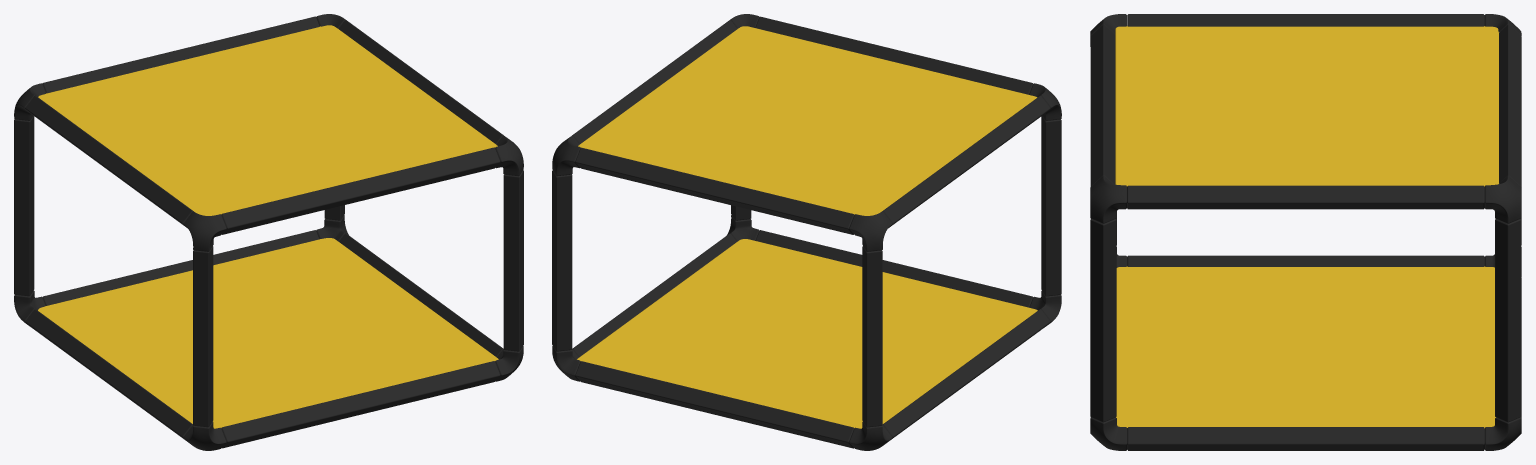
The picture shows the model from 3 angles, left to right: view 1: azimuth 30°, elevation 25°; view 2: azimuth 150°, elevation 25°; view 3: azimuth 270°, elevation 25°; orthographic projection. The views are drawn at different scales.
Parts seen in each view (by area): view 1: 374x374x229; view 2: 374x374x229; view 3: 374x374x229.
Part boxes in pixels (<box>): 374x374x229: <box>14,14,523,450</box>; 374x374x229: <box>552,14,1061,450</box>; 374x374x229: <box>1090,14,1521,450</box>.
Bounding box in the file's own units: 0.4517 × 0.3066 × 0.4513.
